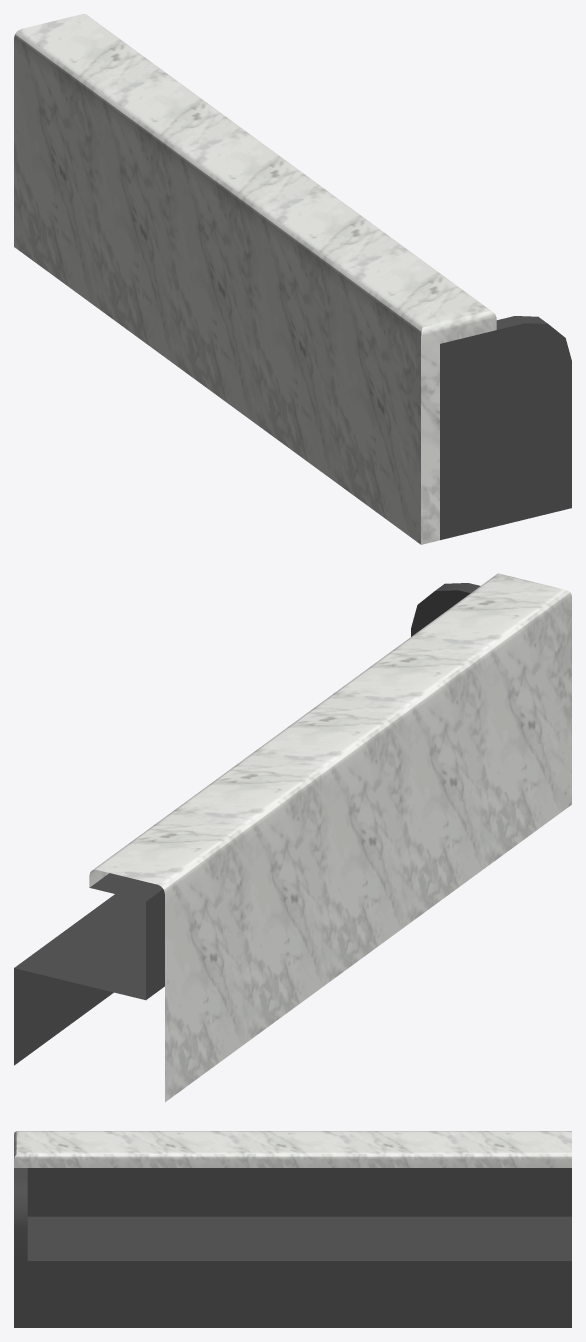
File: Reception.fbx
The picture shows the model from 3 angles, top to bottom: view 1: azimuth 30°, elevation 25°; view 2: azimuth 150°, elevation 25°; view 3: azimuth 270°, elevation 25°; orthographic projection. The views are drawn at different scales.
Visible parts, largest first — view 1: reception; view 2: reception; view 3: reception.
Part boxes in pixels (left/top/right/bottom): reception: left=14, top=14, right=571, bottom=544; reception: left=14, top=573, right=571, bottom=1102; reception: left=14, top=1131, right=571, bottom=1327.
Bounding box in the file's own units: 7.13 × 9.76 × 33.34.
